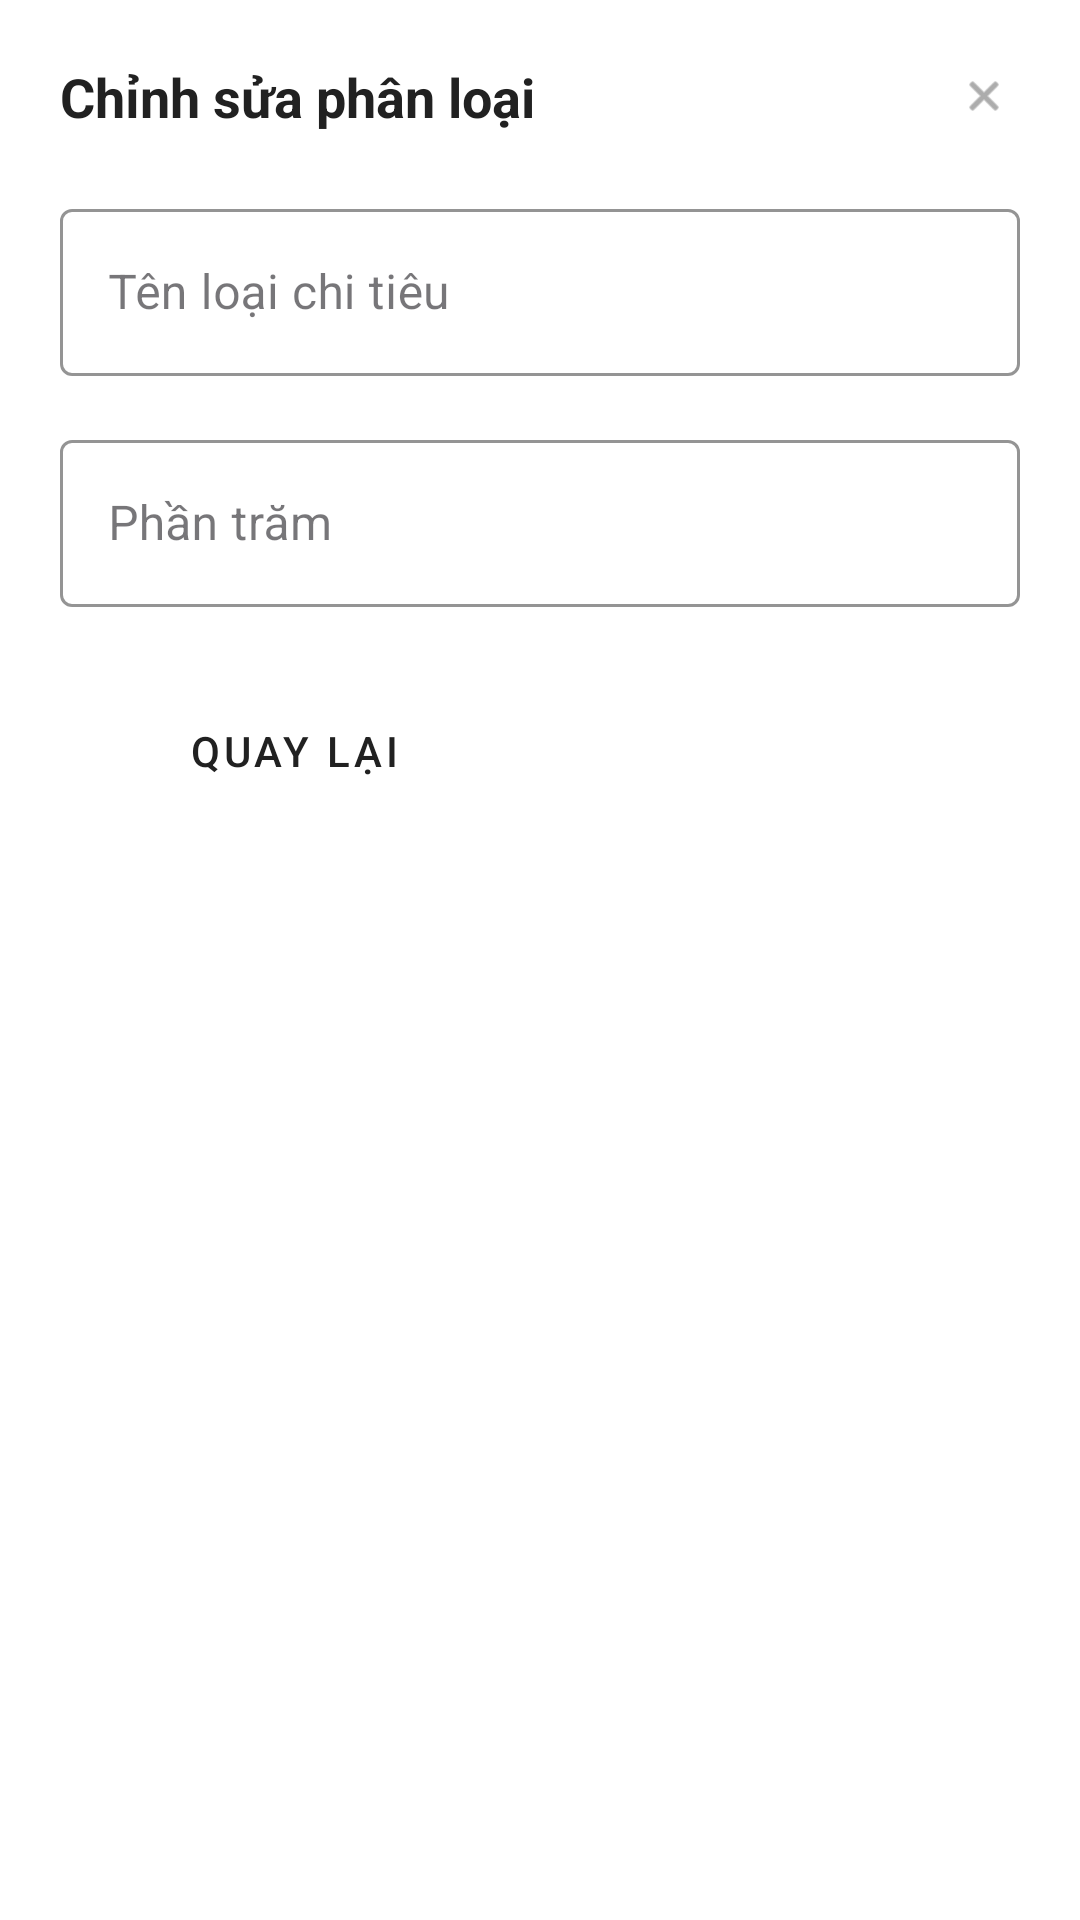

Icon click points for this 1080x1920 phone screenshot, format (x=x, y=y):
close clear cancel: (x=984, y=96)
